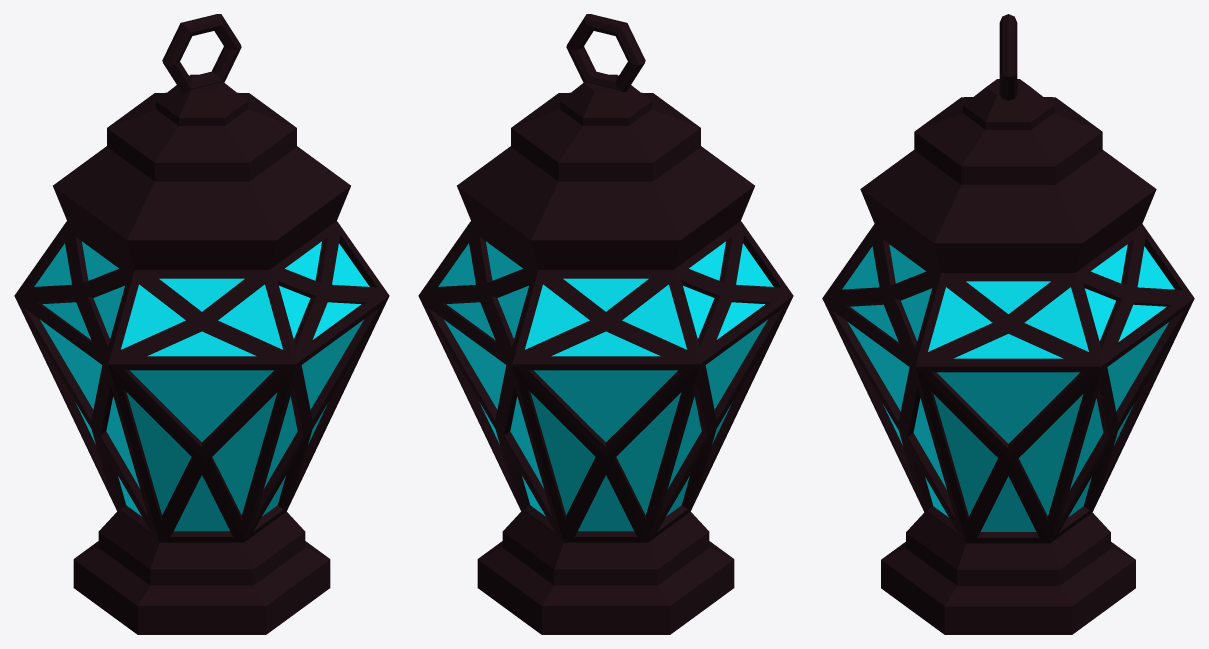
File: LanternCrosses.fbx
The picture shows the model from 3 angles, left to right: view 1: azimuth 30°, elevation 25°; view 2: azimuth 150°, elevation 25°; view 3: azimuth 270°, elevation 25°; orthographic projection.
Visible parts, largest first — view 1: Circle, Circle.001; view 2: Circle, Circle.001; view 3: Circle, Circle.001.
Boxes of the visible parts, x1,y1,x2,y2 form: Circle: (14,14,389,634); Circle.001: (34,241,369,531); Circle: (418,14,793,634); Circle.001: (438,241,773,531); Circle: (822,14,1194,634); Circle.001: (842,244,1174,531).
Size of the model in its own units: 384 by 741 by 443.
